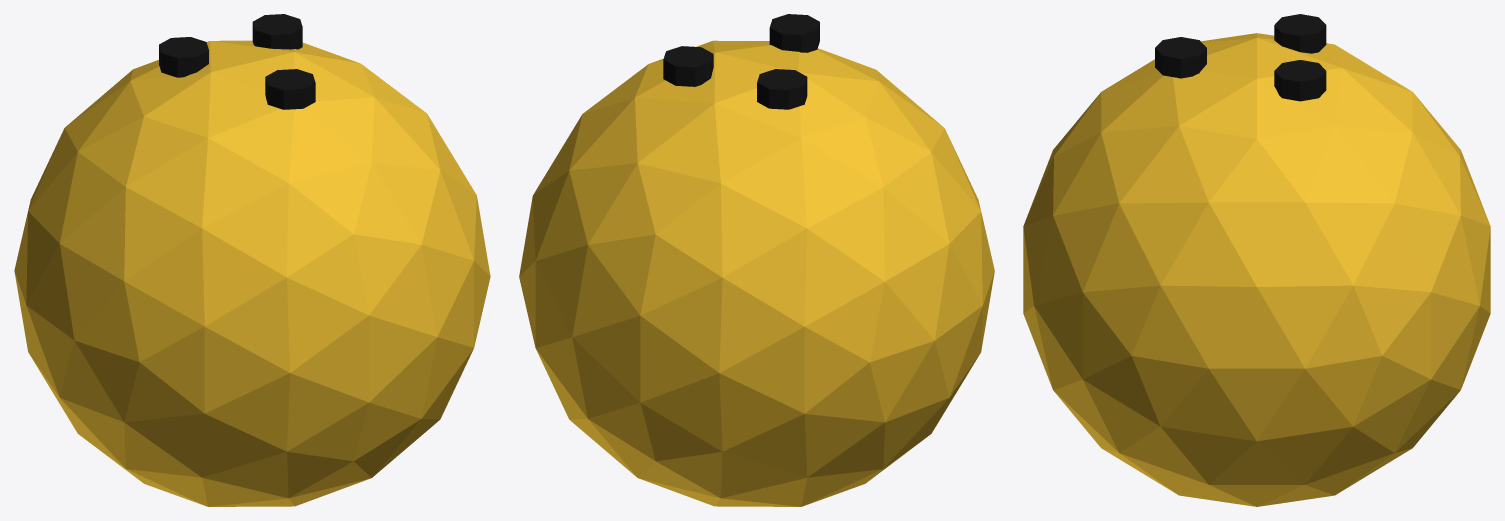
Rendered from bowling_ball_4.glb.
3 renders of one model, left to right at view 1: azimuth 30°, elevation 25°; view 2: azimuth 150°, elevation 25°; view 3: azimuth 270°, elevation 25°, orthographic.
Visible parts, largest first — view 1: ball, hole_ball_hole; view 2: ball, hole_ball_hole; view 3: ball, hole_ball_hole.
Boxes of the visible parts, bbox=[...] form: ball: bbox=[14, 40, 490, 506]; hole_ball_hole: bbox=[159, 14, 315, 109]; ball: bbox=[519, 40, 994, 506]; hole_ball_hole: bbox=[663, 14, 819, 109]; ball: bbox=[1023, 33, 1490, 506]; hole_ball_hole: bbox=[1155, 14, 1326, 101].
Size of the model in its own units: 0.2155 by 0.2207 by 0.2155.
